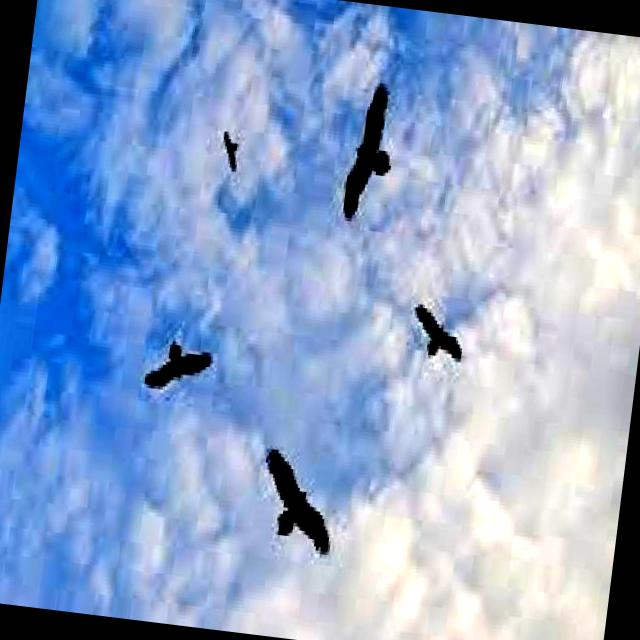bird: (308, 78, 424, 223), (245, 444, 342, 562), (138, 323, 220, 418), (398, 286, 480, 372), (214, 114, 252, 183)
